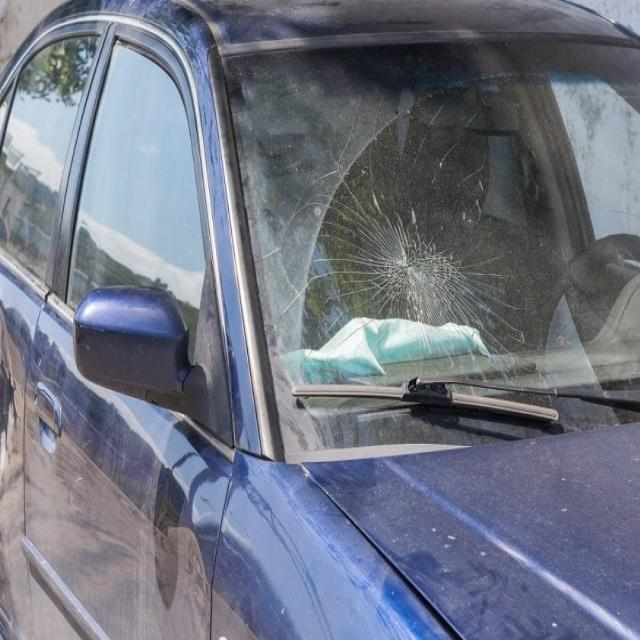Windshield: (262, 78, 491, 422)
